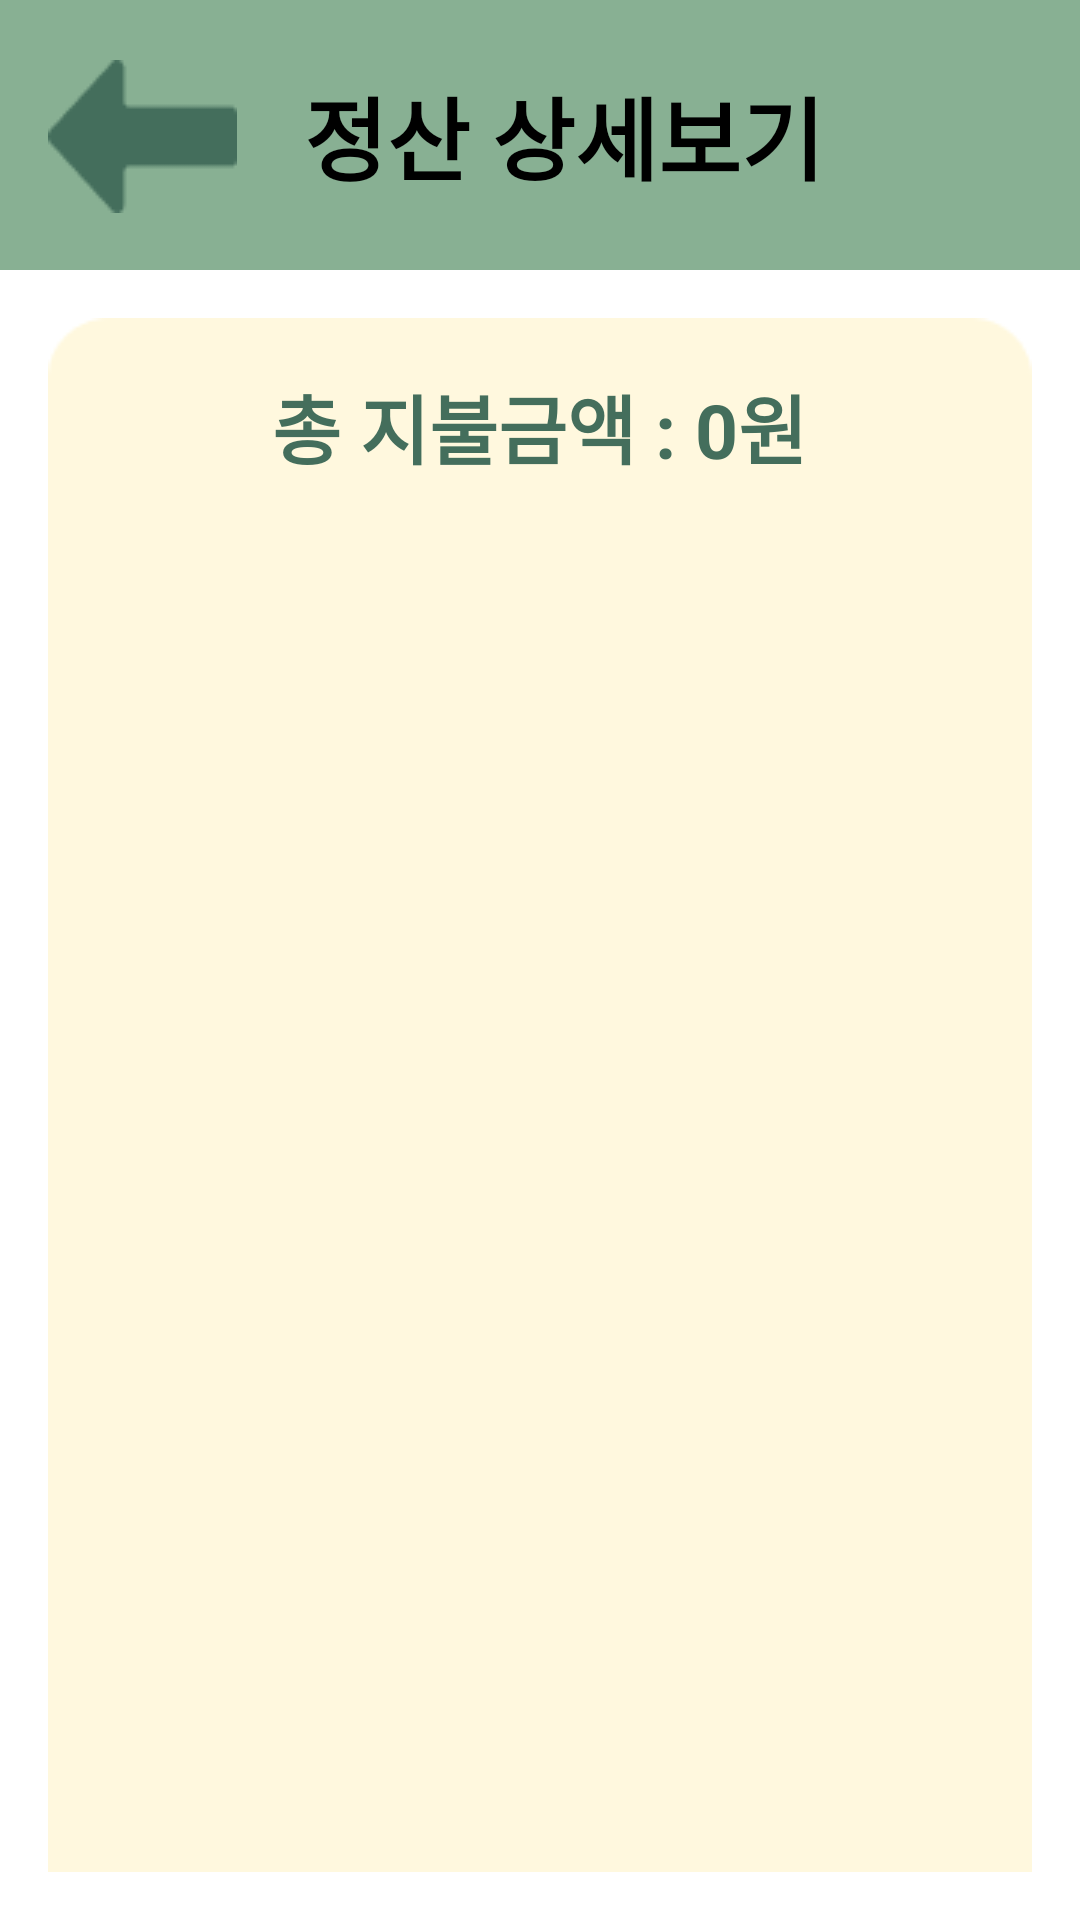

Icon click points for this 1080 × 1920 phone screenshot, format (x,y):
back 버튼: (142,136)
